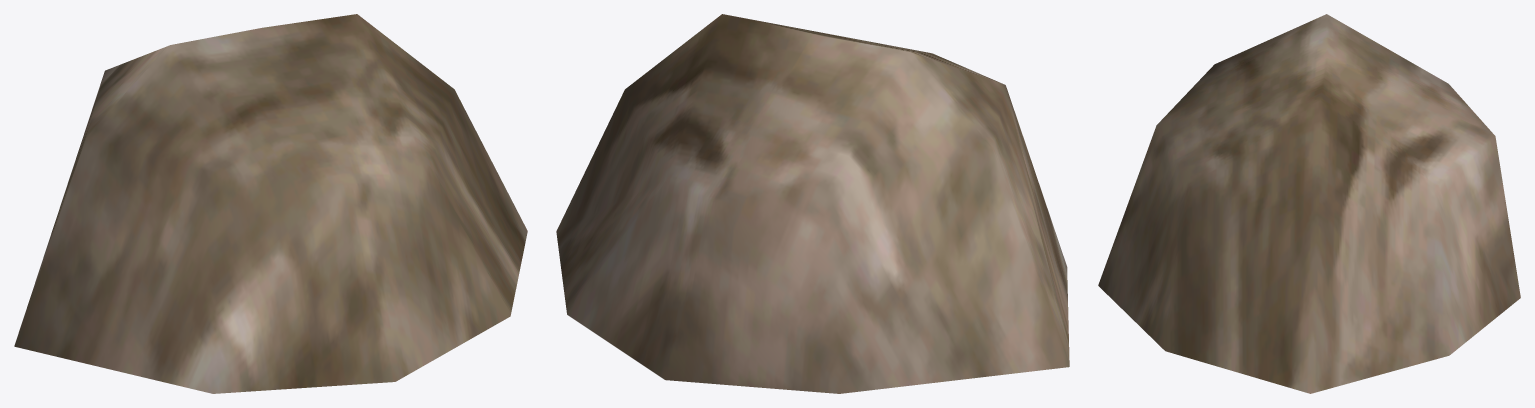
File: OVERHILL_A_01_ROCK82.fbx
3 renders of one model, left to right at view 1: azimuth 30°, elevation 25°; view 2: azimuth 150°, elevation 25°; view 3: azimuth 270°, elevation 25°, orthographic. The views are drawn at different scales.
Visible parts, largest first — view 1: OVERHILL_A_01_ROCK82; view 2: OVERHILL_A_01_ROCK82; view 3: OVERHILL_A_01_ROCK82.
Part boxes in pixels (x1,y1,x2,y2): OVERHILL_A_01_ROCK82: [14, 14, 527, 393]; OVERHILL_A_01_ROCK82: [556, 14, 1069, 393]; OVERHILL_A_01_ROCK82: [1098, 14, 1520, 393].
Bounding box in the file's own units: 4609 × 2312 × 3830.
1 material, 1 textured.
